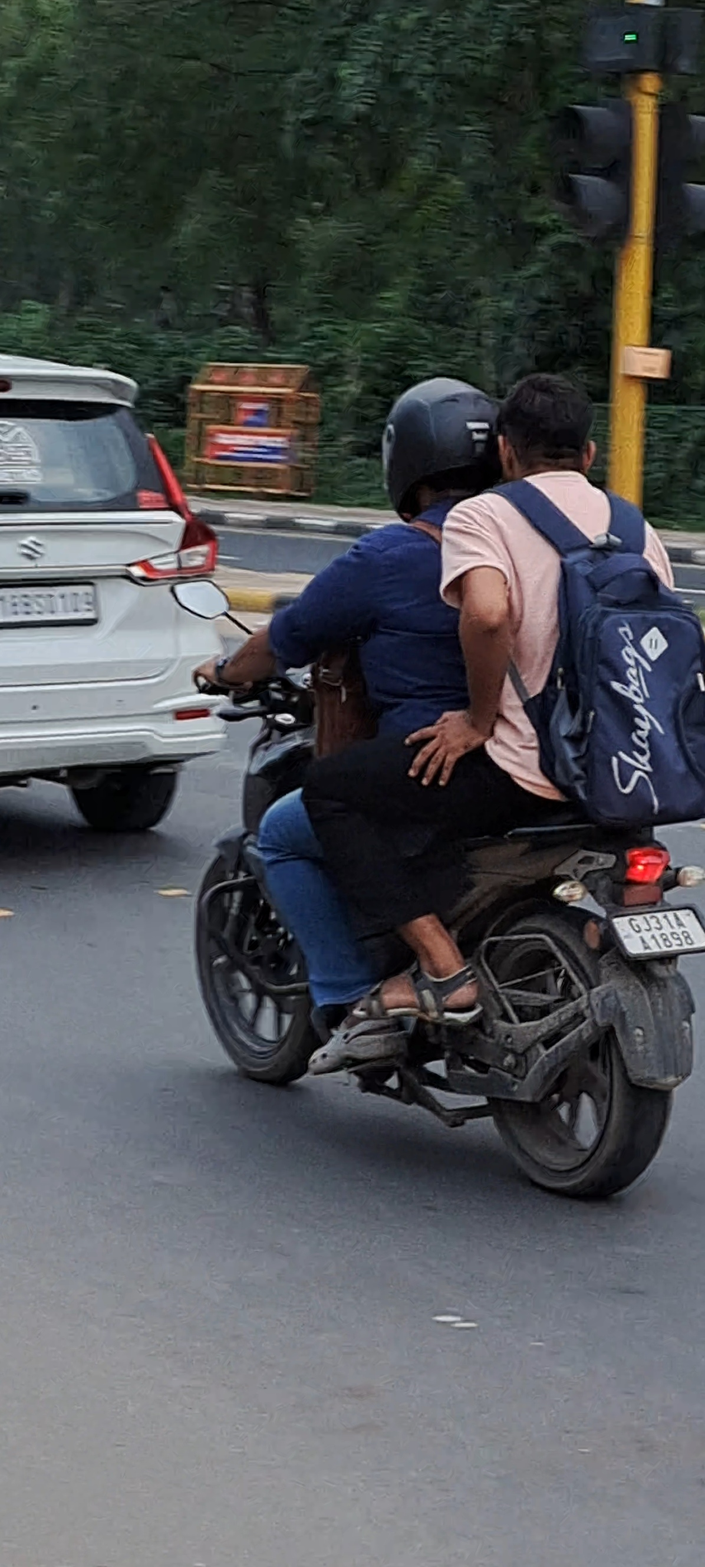BikeWithRider: (171, 347, 705, 1214)
Helmet: (366, 361, 519, 536)
NoHelmet: (480, 361, 614, 497)
